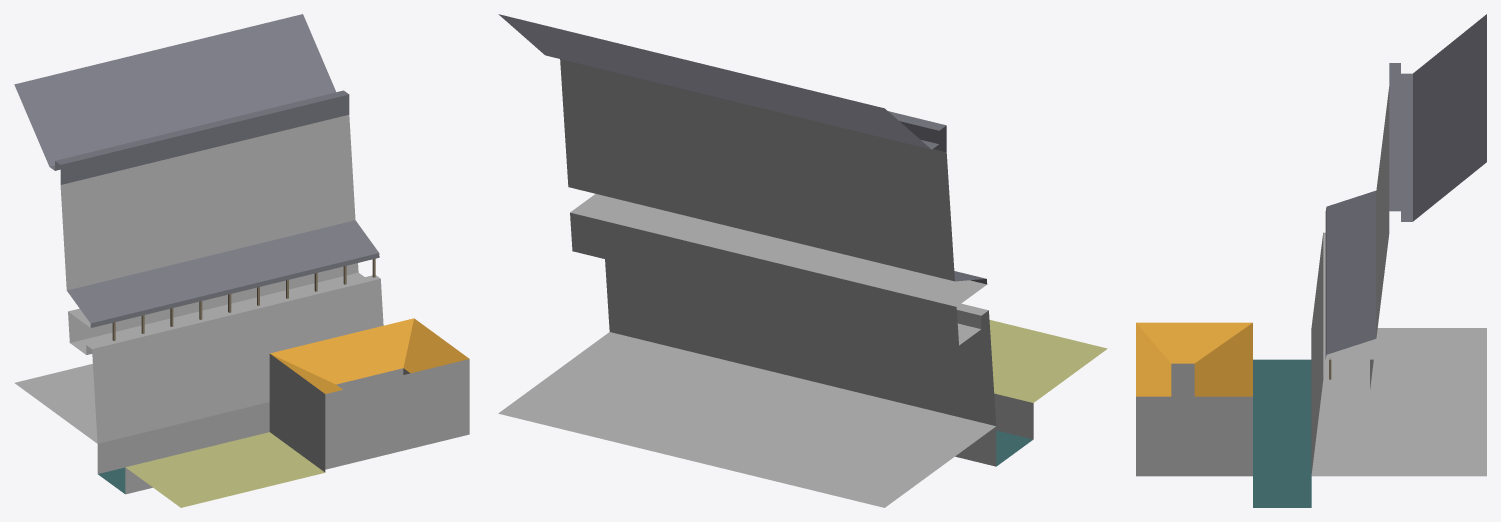
The picture shows the model from 3 angles, left to right: view 1: azimuth 30°, elevation 25°; view 2: azimuth 150°, elevation 25°; view 3: azimuth 270°, elevation 25°; orthographic projection. The views are drawn at different scales.
Parts seen in each view (by area): view 1: cc2w; view 2: cc2w; view 3: cc2w.
Part boxes in pixels (x1=…): cc2w: x1=14, y1=14, x2=469, y2=507; cc2w: x1=498, y1=14, x2=1107, y2=507; cc2w: x1=1136, y1=14, x2=1486, y2=507.
Size of the model in its own units: 30 by 32.63 by 30.
